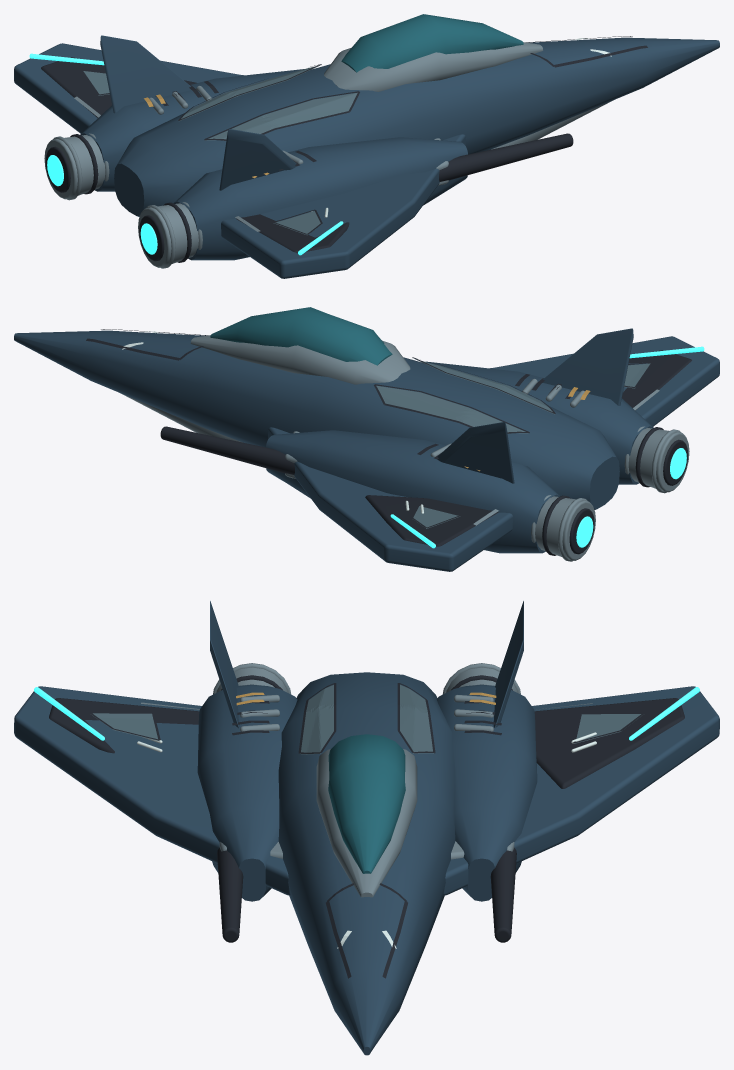
Rendered from Wasp.glb.
The picture shows the model from 3 angles, top to bottom: view 1: azimuth 30°, elevation 25°; view 2: azimuth 150°, elevation 25°; view 3: azimuth 270°, elevation 25°; orthographic projection. The views are drawn at different scales.
Visible parts, largest first — view 1: Main interceptor pressure hull, Drive nacelle -1, Swept wing spar -1, Raised wraparound canopy, Drive nacelle 1, Canopy frame, Swept wing spar 1, Stabiliser 1, Stabiliser -1, Long-range pulse cannon -1, Shoulder armour -1, Outer nozzle -1 (+9 smaller); view 2: Main interceptor pressure hull, Drive nacelle 1, Swept wing spar 1, Raised wraparound canopy, Drive nacelle -1, Canopy frame, Swept wing spar -1, Stabiliser -1, Carbon slat 1, Stabiliser 1, Long-range pulse cannon 1, Shoulder armour 1 (+9 smaller); view 3: Main interceptor pressure hull, Swept wing spar -1, Drive nacelle 1, Drive nacelle -1, Swept wing spar 1, Raised wraparound canopy, Carbon slat 1, Canopy frame, Carbon slat -1, Long-range pulse cannon -1, Long-range pulse cannon 1, Shoulder armour -1 (+5 smaller).
Boxes of the visible parts, bbox=[...] form: Main interceptor pressure hull: bbox=[114, 37, 719, 216]; Drive nacelle -1: bbox=[173, 137, 467, 260]; Swept wing spar -1: bbox=[221, 134, 465, 278]; Raised wraparound canopy: bbox=[341, 14, 523, 72]; Drive nacelle 1: bbox=[80, 69, 303, 191]; Canopy frame: bbox=[324, 42, 543, 91]; Swept wing spar 1: bbox=[14, 43, 243, 133]; Stabiliser 1: bbox=[100, 35, 190, 113]; Stabiliser -1: bbox=[219, 129, 296, 190]; Long-range pulse cannon -1: bbox=[439, 133, 573, 181]; Shoulder armour -1: bbox=[205, 92, 357, 140]; Outer nozzle -1: bbox=[138, 203, 198, 267]; Main interceptor pressure hull: bbox=[14, 330, 619, 509]; Drive nacelle 1: bbox=[266, 430, 560, 553]; Swept wing spar 1: bbox=[268, 427, 512, 571]; Raised wraparound canopy: bbox=[210, 307, 392, 365]; Drive nacelle -1: bbox=[426, 361, 653, 484]; Canopy frame: bbox=[190, 335, 410, 384]; Swept wing spar -1: bbox=[490, 336, 719, 426]; Stabiliser -1: bbox=[543, 328, 633, 405]; Carbon slat 1: bbox=[365, 495, 498, 546]; Stabiliser 1: bbox=[437, 422, 514, 483]; Long-range pulse cannon 1: bbox=[160, 426, 294, 474]; Shoulder armour 1: bbox=[376, 385, 528, 433]; Main interceptor pressure hull: bbox=[278, 672, 455, 1055]; Swept wing spar -1: bbox=[14, 686, 290, 895]; Drive nacelle 1: bbox=[436, 684, 537, 901]; Drive nacelle -1: bbox=[197, 684, 297, 901]; Swept wing spar 1: bbox=[443, 686, 719, 895]; Raised wraparound canopy: bbox=[328, 734, 405, 873]; Carbon slat 1: bbox=[534, 698, 684, 788]; Canopy frame: bbox=[316, 749, 417, 897]; Carbon slat -1: bbox=[49, 698, 199, 753]; Long-range pulse cannon -1: bbox=[217, 847, 243, 942]; Long-range pulse cannon 1: bbox=[490, 847, 516, 942]; Shoulder armour -1: bbox=[300, 685, 333, 754].
Size of the model in its own units: 6.63 by 1.7 by 5.35.
